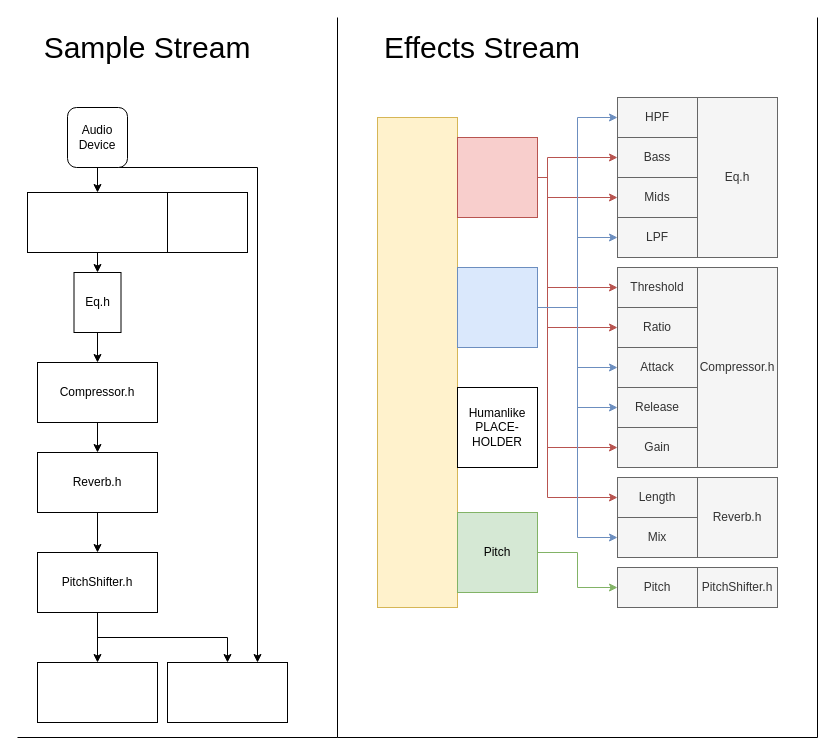
Image size: 836x756. Some labels were removed from this diagram. The box of each missing label's shape, as (x1, y1, x2, y2) in pixels:
- Main Screen - Save Button: (166, 192, 248, 252)
Drama: (456, 136, 538, 218)
Juce Main Component: (26, 192, 168, 252)
Juce Output: (36, 662, 158, 722)
SimpleMode.h: (376, 116, 458, 608)
Spaceyness: (456, 266, 538, 348)
WAVSaver.h: (166, 662, 288, 722)
